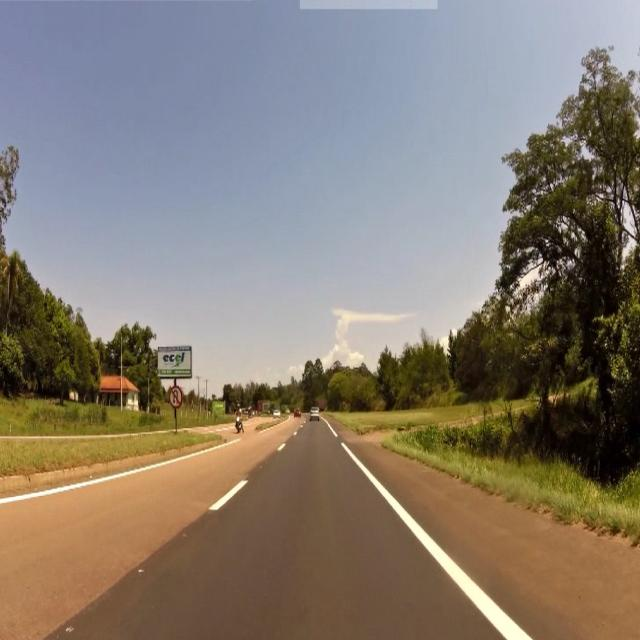R-5a: (168, 388, 183, 408)
